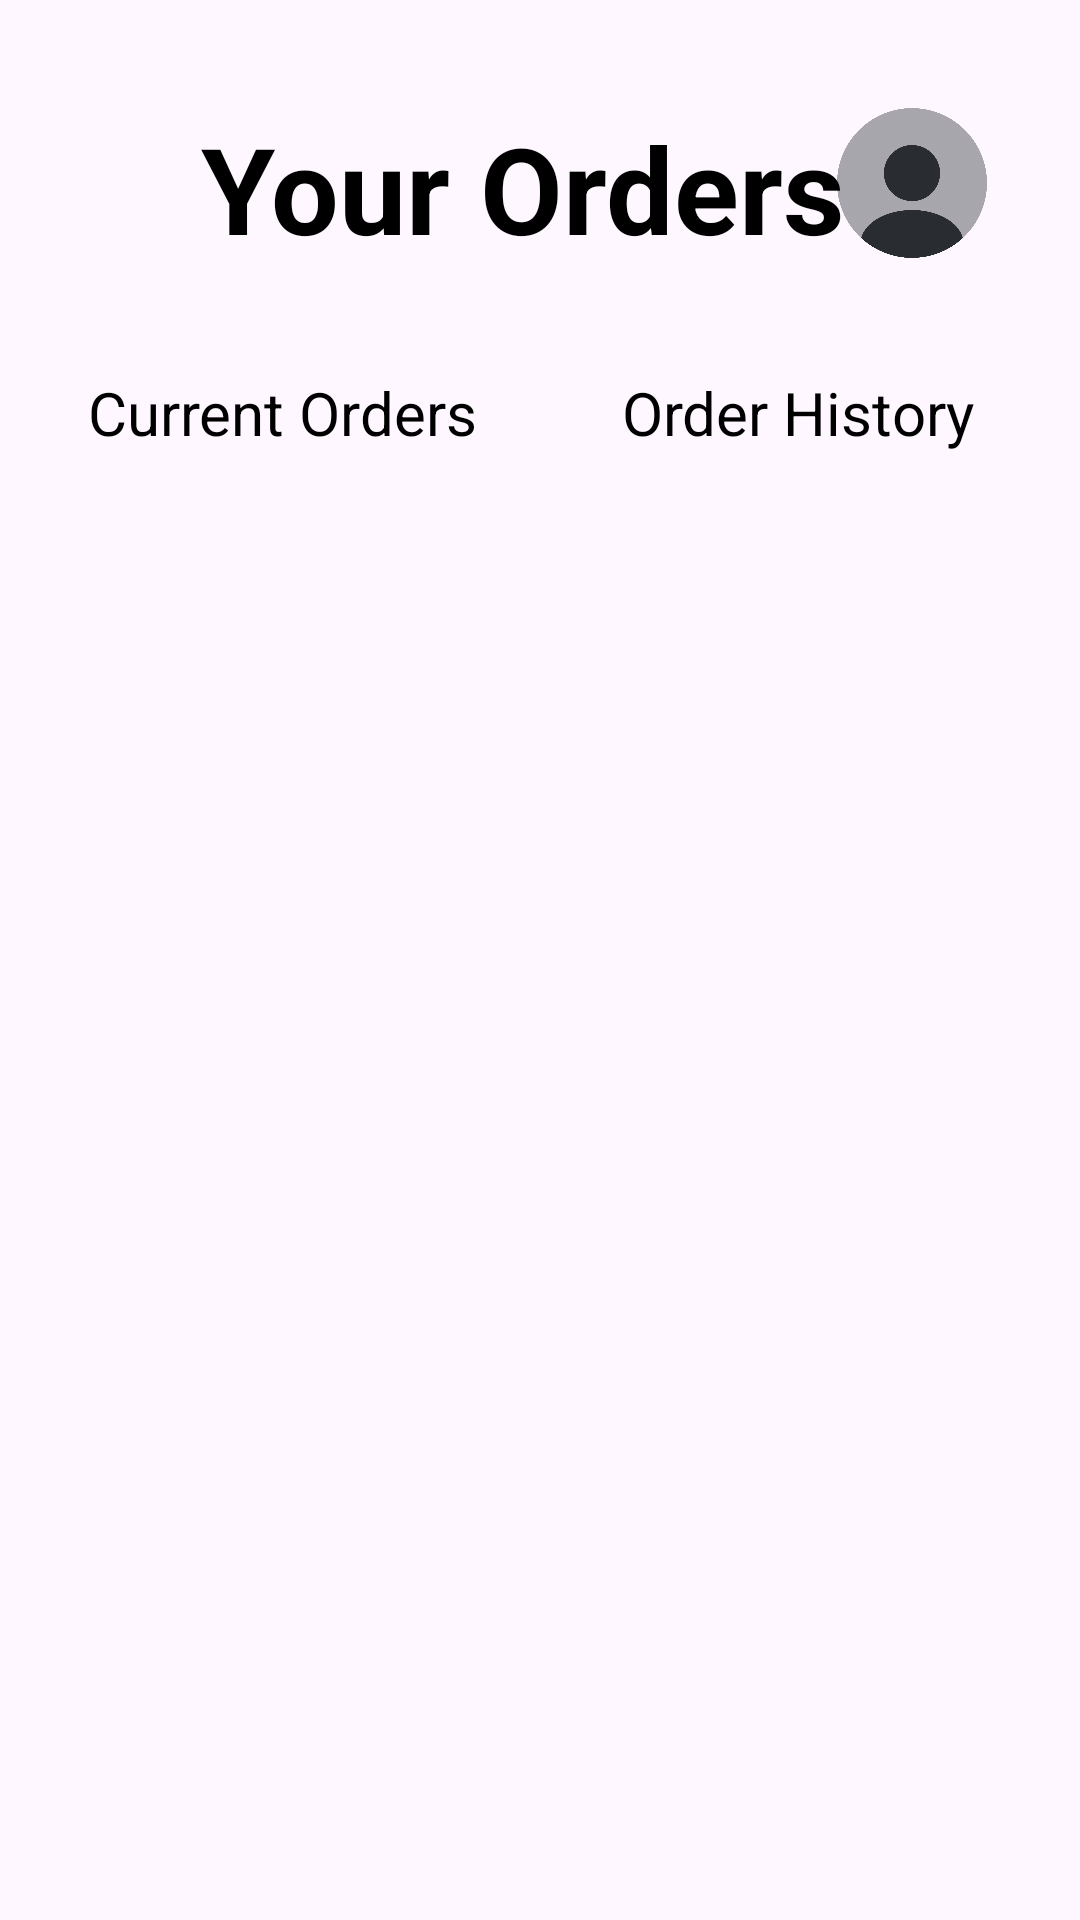

Icons on this 1080 x 1920 Android screen, each with its box as Rect(x1, y1, x2, y2):
profile picture: Rect(837, 108, 987, 258)
